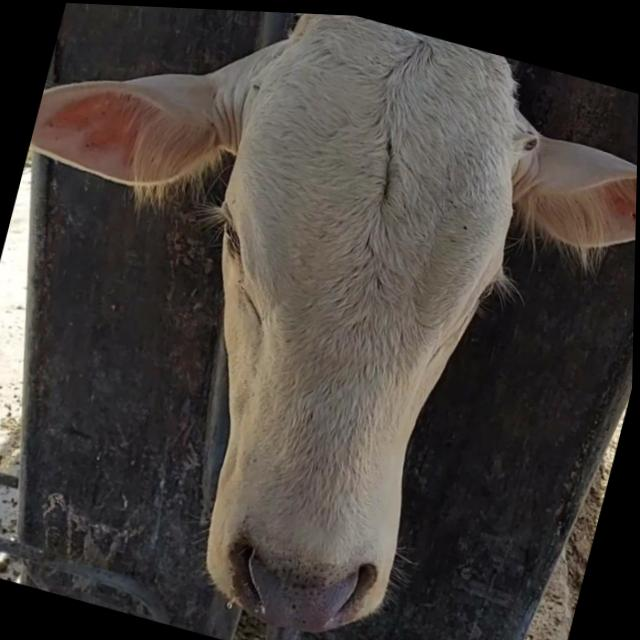cowFace: (120, 5, 556, 640)
